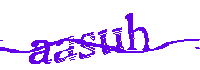a: (54, 37, 76, 64), (30, 37, 50, 65)
h: (125, 11, 151, 53)
s: (79, 29, 96, 61)
u: (98, 25, 124, 56)
